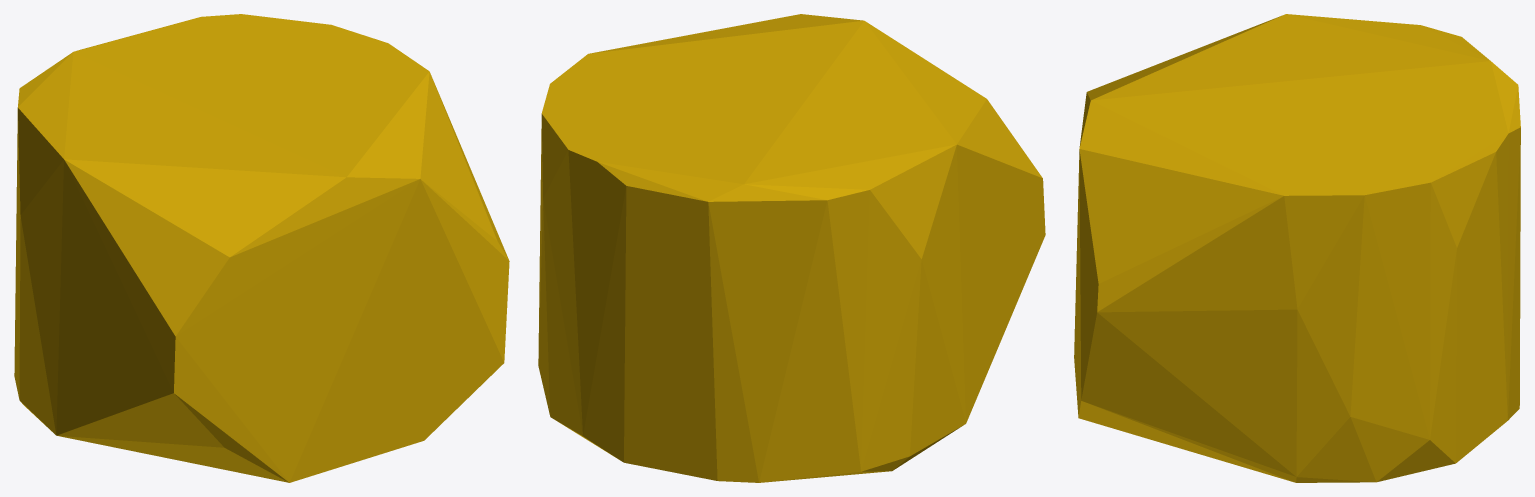
The model's file is model3_convex_piece_005.obj.
The picture shows the model from 3 angles, left to right: view 1: azimuth 30°, elevation 25°; view 2: azimuth 150°, elevation 25°; view 3: azimuth 270°, elevation 25°; orthographic projection. The views are drawn at different scales.
Bounding box in the file's own units: 0.0216 × 0.016 × 0.0215.
